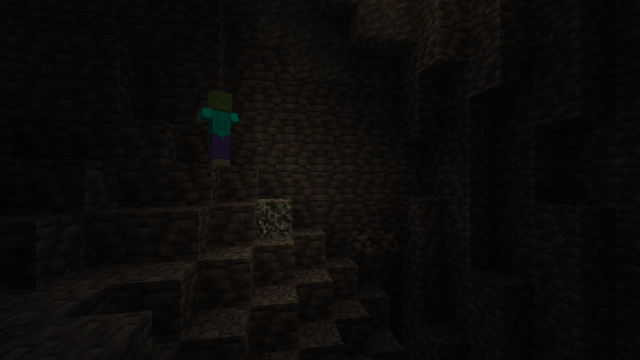zombies: (205, 91, 232, 166)
